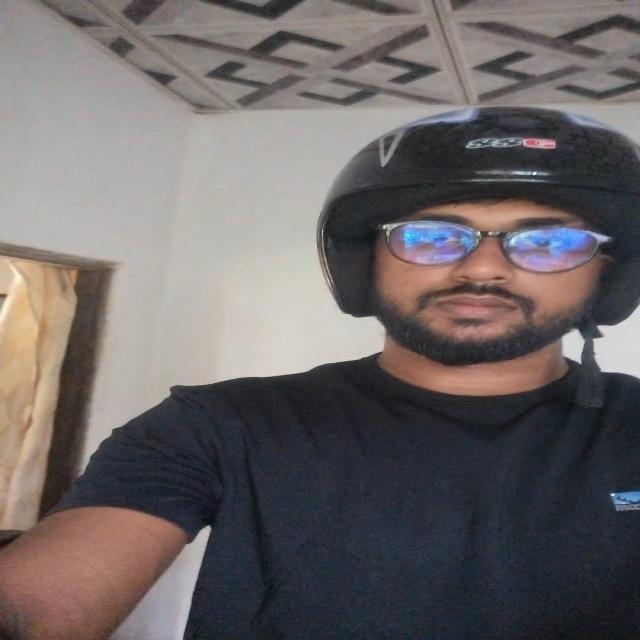Helmet_Wearer: (274, 92, 640, 422)
Person: (68, 104, 640, 640)
